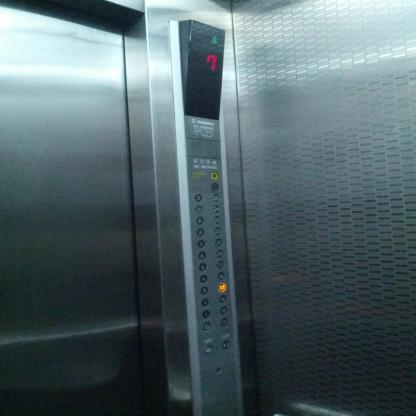1: (202, 310, 209, 318)
10: (195, 204, 203, 214)
11: (194, 193, 202, 202)
12: (220, 317, 228, 326)
15: (220, 306, 227, 314)
16: (219, 294, 226, 303)
17: (218, 283, 226, 292)
18: (217, 271, 225, 280)
19: (216, 260, 224, 269)
2: (201, 298, 208, 306)
20: (215, 248, 223, 258)
21: (215, 237, 222, 246)
22: (214, 226, 221, 235)
23: (213, 215, 221, 224)
24: (213, 204, 220, 213)
25: (212, 193, 219, 202)
3: (200, 286, 208, 294)
4: (200, 274, 207, 283)
5: (199, 262, 206, 272)
6: (198, 250, 206, 259)
7: (197, 240, 205, 249)
8: (197, 228, 204, 236)
9: (196, 216, 204, 224)
G: (203, 321, 210, 330)
alarm: (210, 171, 218, 180)
blur: (211, 182, 218, 191)
close: (222, 340, 230, 350)
led: (176, 18, 227, 123)
open: (204, 345, 212, 354)
